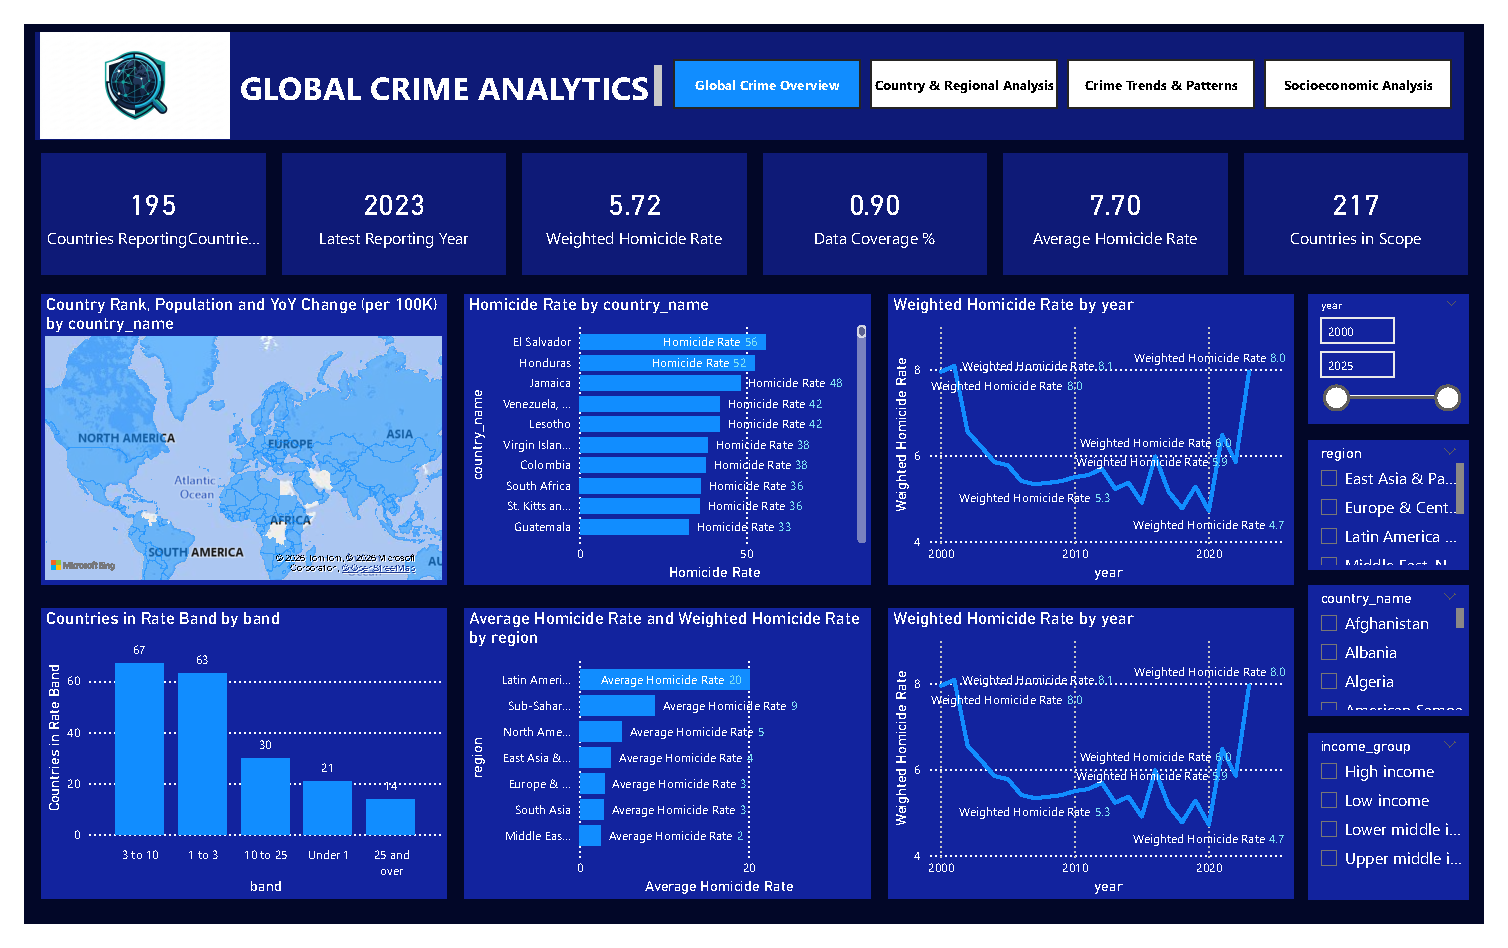

Layout of this report page (visuals, bound fields, positions):
{"tool":"powerbi","page":{"name":"Global Crime Overview","canvas":[1460,900],"ordinal":0},"visuals":[{"type":"shape","box":[11.4,7.6,1429.1,108.5],"z":0},{"type":"card","fields":{"Values":["Global_Crime_Analytics_Master.Countries ReportingCountries with Homicide Data"]},"box":[17.3,129.4,224.5,121.8],"z":0,"group":"g1"},{"type":"filledMap","fields":{"Category":["Global_Crime_Analytics_Master.country_name"]},"box":[17.2,270.2,406.2,291.2],"z":0,"group":"g2"},{"type":"clusteredColumnChart","fields":{"Category":["Dim_Rate_Band.band"],"Y":["Dim_Rate_Band.Countries in Rate Band"]},"box":[17.2,584.4,406.2,291.2],"z":0,"group":"g3"},{"type":"image","box":[17.1,3.8,188.4,116.1],"z":1000},{"type":"card","fields":{"Values":["Global_Crime_Analytics_Master.Latest Reporting Year"]},"box":[257.8,129.4,224.5,121.8],"z":1000,"group":"g1"},{"type":"clusteredBarChart","fields":{"Category":["Global_Crime_Analytics_Master.country_name"],"Y":["Global_Crime_Analytics_Master.Homicide Rate"]},"box":[440.6,270.2,406.2,291.2],"z":1000,"group":"g2"},{"type":"clusteredBarChart","fields":{"Category":["Global_Crime_Analytics_Master.region"],"Y":["Global_Crime_Analytics_Master.Average Homicide Rate"]},"box":[440.6,584.4,406.2,291.2],"z":1000,"group":"g3"},{"type":"textbox","box":[205.5,36.2,437.7,51.4],"z":2000},{"type":"card","fields":{"Values":["Global_Crime_Analytics_Master.Weighted Homicide Rate"]},"box":[498.3,129.4,224.5,121.8],"z":2000,"group":"g1"},{"type":"lineChart","fields":{"Category":["Global_Crime_Analytics_Master.year"],"Y":["Global_Crime_Analytics_Master.Weighted Homicide Rate"]},"box":[864.1,270.2,406.2,291.2],"z":2000,"group":"g2"},{"type":"lineChart","fields":{"Category":["Global_Crime_Analytics_Master.year"],"Y":["Global_Crime_Analytics_Master.Weighted Homicide Rate"]},"box":[864.1,584.4,406.2,291.2],"z":2000,"group":"g3"},{"type":"group","id":"g1","title":"Group 1","box":[17.3,129.4,1427.2,121.8],"z":3000},{"type":"card","fields":{"Values":["Global_Crime_Analytics_Master.Data Coverage %"]},"box":[738.9,129.4,224.5,121.8],"z":3000,"group":"g1"},{"type":"card","fields":{"Values":["Global_Crime_Analytics_Master.Average Homicide Rate"]},"box":[979.4,129.4,224.5,121.8],"z":4000,"group":"g1"},{"type":"group","id":"g2","title":"Group 2","box":[17.2,270.2,1253.1,291.2],"z":4000},{"type":"card","fields":{"Values":["Global_Crime_Analytics_Master.Countries in Scope"]},"box":[1219.9,129.4,224.5,121.8],"z":5000,"group":"g1"},{"type":"group","id":"g3","title":"Group 2","box":[17.2,584.4,1253.1,291.2],"z":5000},{"type":"slicer","fields":{"Values":["Global_Crime_Analytics_Master.year"]},"box":[1283.7,270.2,160.9,130.3],"z":6000},{"type":"slicer","fields":{"Values":["Global_Crime_Analytics_Master.region"]},"box":[1283.7,415.8,160.9,130.3],"z":7000},{"type":"slicer","fields":{"Values":["Global_Crime_Analytics_Master.country_name"]},"box":[1283.7,561.4,160.9,130.3],"z":8000},{"type":"slicer","fields":{"Values":["Global_Crime_Analytics_Master.income_group"]},"box":[1283.7,708.9,160.9,166.7],"z":9000},{"type":"pageNavigator","box":[649.5,36.4,781.7,49.8],"z":10000}]}

Visuals, with their boxes in screenshot pixels (x1, y1, x2, y2), scaled from the page's 1460x900 canvas onto the 1508x948 screenshot:
shape: bbox=[12, 8, 1488, 122]
card - Global_Crime_Analytics_Master.Countries ReportingCountries with Homicide Data: bbox=[18, 136, 250, 265]
filledMap - Global_Crime_Analytics_Master.country_name: bbox=[18, 285, 437, 591]
clusteredColumnChart - Dim_Rate_Band.band x Dim_Rate_Band.Countries in Rate Band: bbox=[18, 616, 437, 922]
image: bbox=[18, 4, 212, 126]
card - Global_Crime_Analytics_Master.Latest Reporting Year: bbox=[266, 136, 498, 265]
clusteredBarChart - Global_Crime_Analytics_Master.country_name x Global_Crime_Analytics_Master.Homicide Rate: bbox=[455, 285, 875, 591]
clusteredBarChart - Global_Crime_Analytics_Master.region x Global_Crime_Analytics_Master.Average Homicide Rate: bbox=[455, 616, 875, 922]
textbox: bbox=[212, 38, 664, 92]
card - Global_Crime_Analytics_Master.Weighted Homicide Rate: bbox=[515, 136, 747, 265]
lineChart - Global_Crime_Analytics_Master.year x Global_Crime_Analytics_Master.Weighted Homicide Rate: bbox=[893, 285, 1312, 591]
lineChart - Global_Crime_Analytics_Master.year x Global_Crime_Analytics_Master.Weighted Homicide Rate: bbox=[893, 616, 1312, 922]
"Group 1" group: bbox=[18, 136, 1492, 265]
card - Global_Crime_Analytics_Master.Data Coverage %: bbox=[763, 136, 995, 265]
card - Global_Crime_Analytics_Master.Average Homicide Rate: bbox=[1012, 136, 1243, 265]
"Group 2" group: bbox=[18, 285, 1312, 591]
card - Global_Crime_Analytics_Master.Countries in Scope: bbox=[1260, 136, 1492, 265]
"Group 2" group: bbox=[18, 616, 1312, 922]
slicer - Global_Crime_Analytics_Master.year: bbox=[1326, 285, 1492, 422]
slicer - Global_Crime_Analytics_Master.region: bbox=[1326, 438, 1492, 575]
slicer - Global_Crime_Analytics_Master.country_name: bbox=[1326, 591, 1492, 729]
slicer - Global_Crime_Analytics_Master.income_group: bbox=[1326, 747, 1492, 922]
pageNavigator: bbox=[671, 38, 1478, 91]
